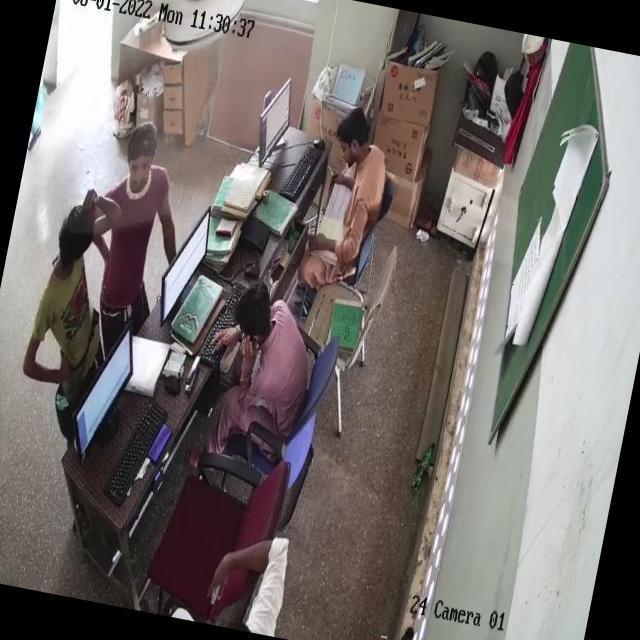person: (220, 293, 320, 448), (317, 104, 403, 283), (35, 196, 117, 380), (92, 131, 173, 298)
